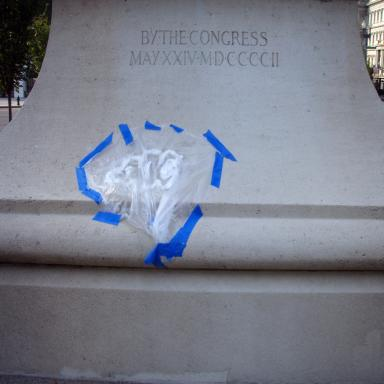plasticbag: (74, 118, 216, 264)
